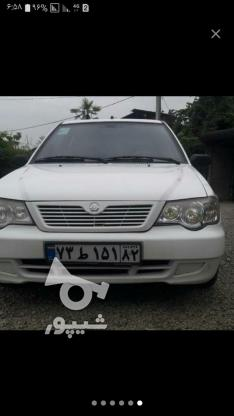car: (42, 243, 143, 262)
